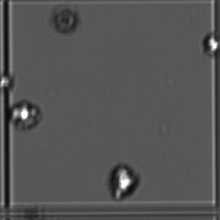Dead Cell: (47, 6, 82, 34)
Living Cell: (102, 161, 143, 201), (6, 97, 44, 132), (204, 33, 220, 55), (1, 71, 16, 90)
